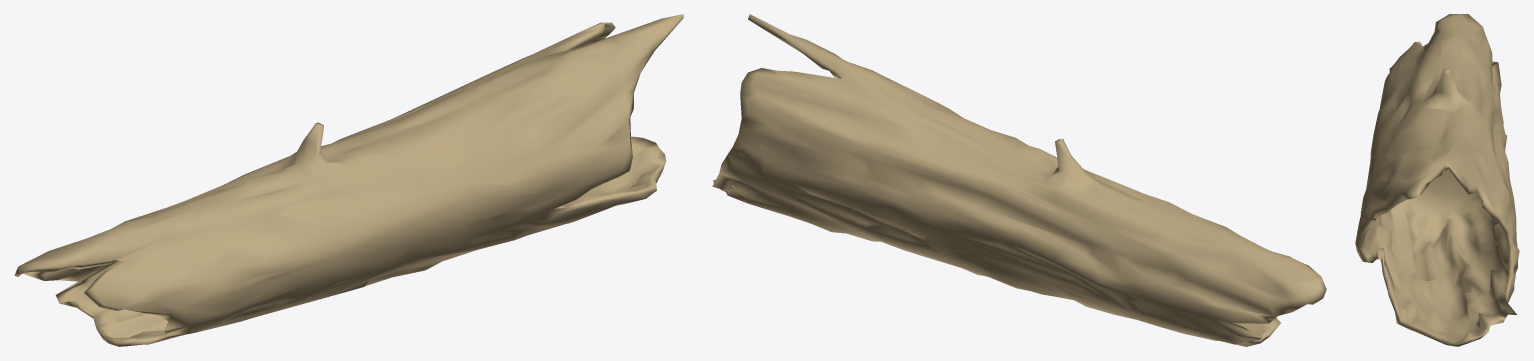
Rendered from bark-01.fbx.
3 views of the same model, side by side, from view 1: azimuth 30°, elevation 25°; view 2: azimuth 150°, elevation 25°; view 3: azimuth 270°, elevation 25° (orthographic). The views are drawn at different scales.
Parts seen in each view (by area): view 1: bark-01; view 2: bark-01; view 3: bark-01.
Boxes of the visible parts, box(x1,y1,x2,y2) form: bark-01: box(14, 14, 683, 346); bark-01: box(712, 14, 1326, 346); bark-01: box(1355, 14, 1519, 346).
Bounding box in the file's own units: 2065 × 634 × 492.
